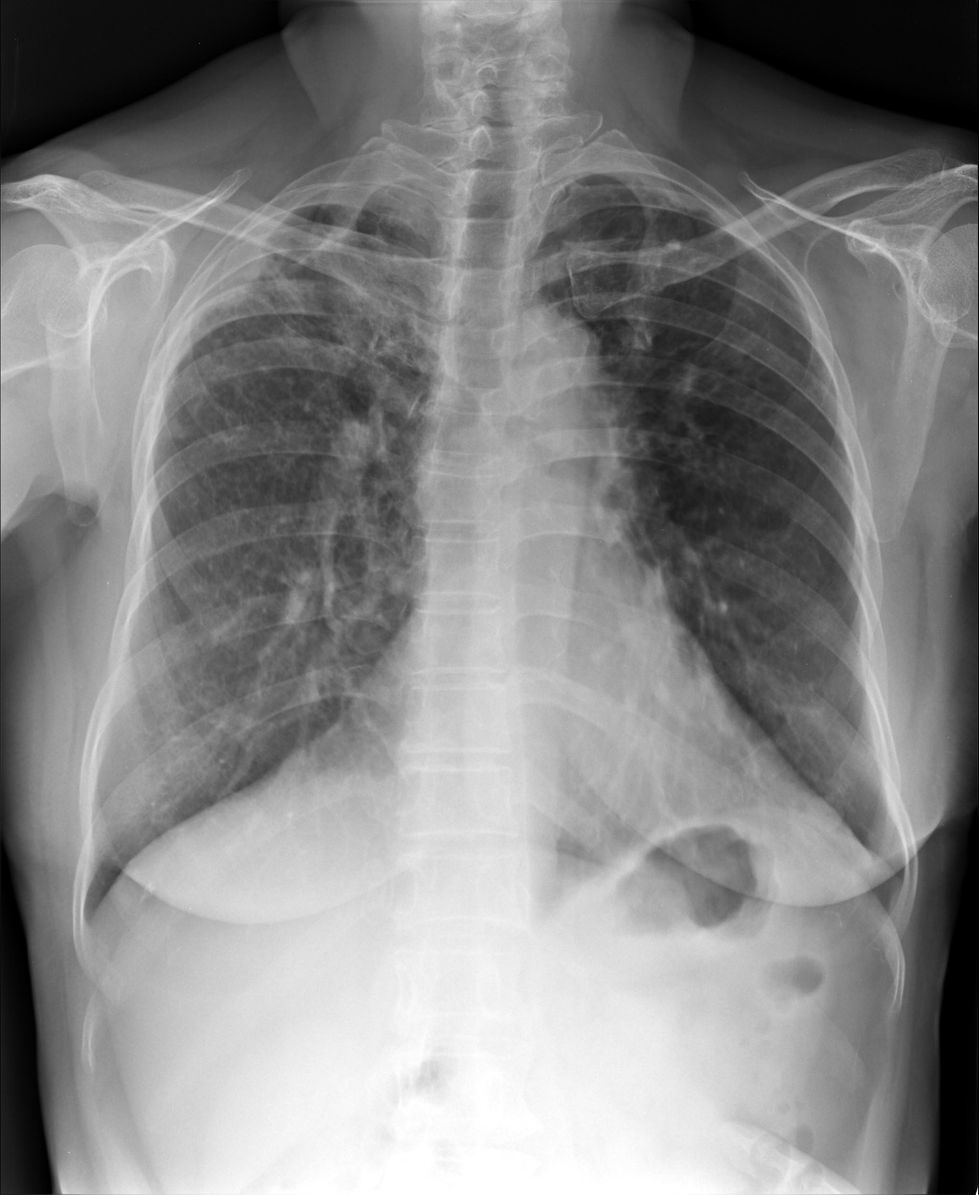Aortic enlargement: (498, 312, 605, 441)
Pleural thickening: (176, 187, 371, 364), (621, 174, 727, 224)
Pulmonary fibrosis: (160, 178, 464, 455)
